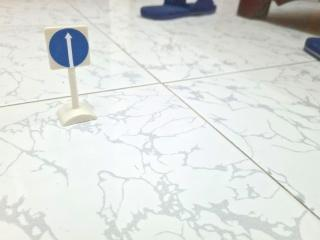straight: (47, 26, 90, 69)
